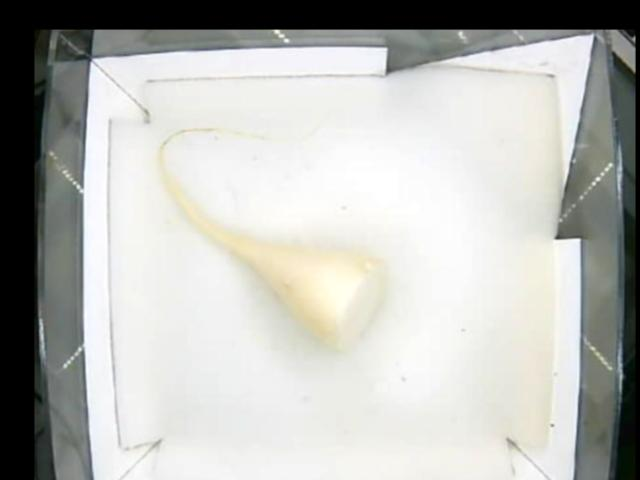Mooli: (213, 231, 387, 350)
